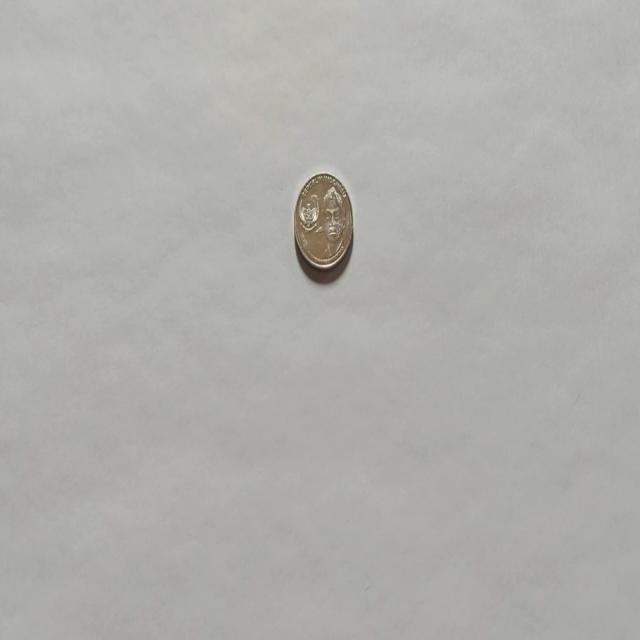dua ratus rupiah: (293, 170, 353, 272)
